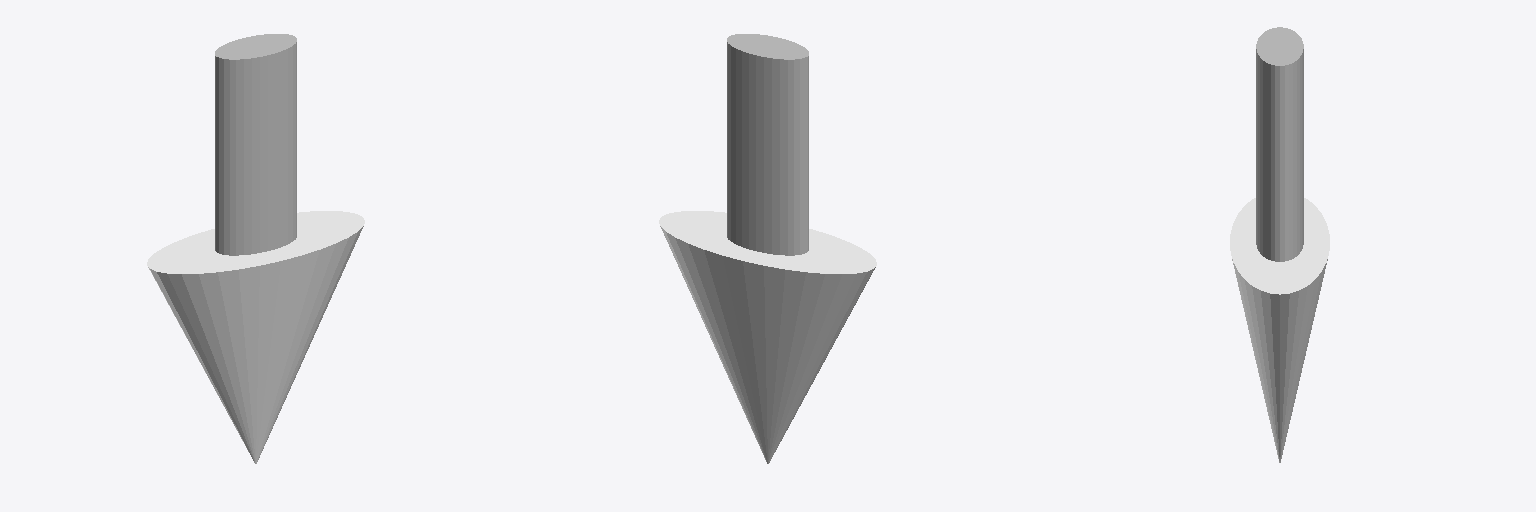
3 renders of one model, left to right at view 1: azimuth 30°, elevation 25°; view 2: azimuth 150°, elevation 25°; view 3: azimuth 270°, elevation 25°, orthographic.
Visible parts, largest first — view 1: 円錐, 円柱; view 2: 円錐, 円柱; view 3: 円錐, 円柱.
Boxes of the visible parts, x1=… form: 円錐: x1=147, y1=211, x2=364, y2=463; 円柱: x1=215, y1=34, x2=296, y2=255; 円錐: x1=659, y1=211, x2=876, y2=463; 円柱: x1=727, y1=34, x2=808, y2=255; 円錐: x1=1230, y1=198, x2=1329, y2=462; 円柱: x1=1256, y1=27, x2=1303, y2=261.
Bounding box in the file's own units: 2 × 3.76 × 0.8193.
1 materials, 1 textured.